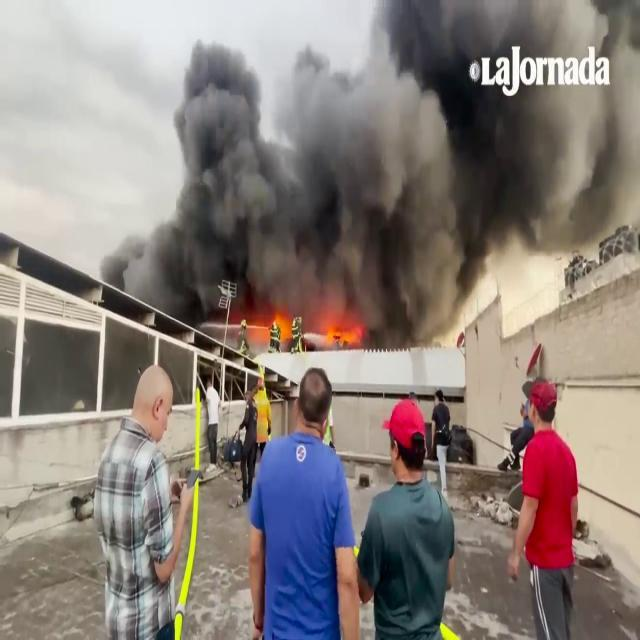Fire: (246, 301, 362, 349)
Smoke: (107, 1, 639, 319)
